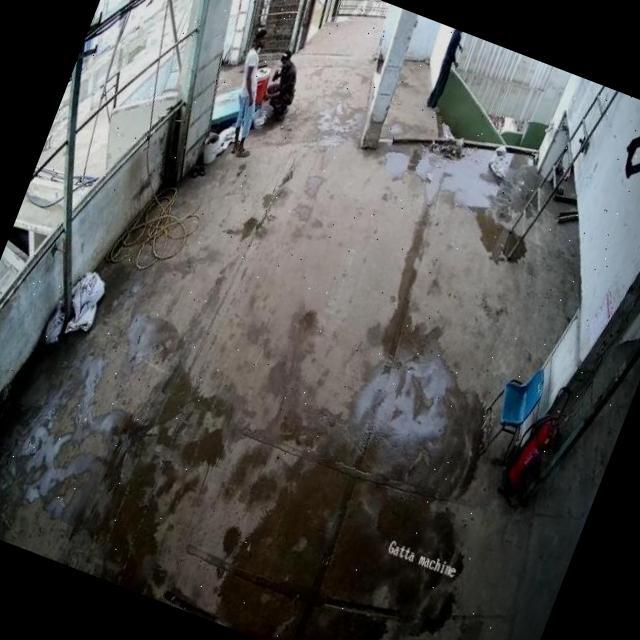person: (214, 34, 288, 154), (264, 40, 316, 118), (420, 28, 467, 114)
